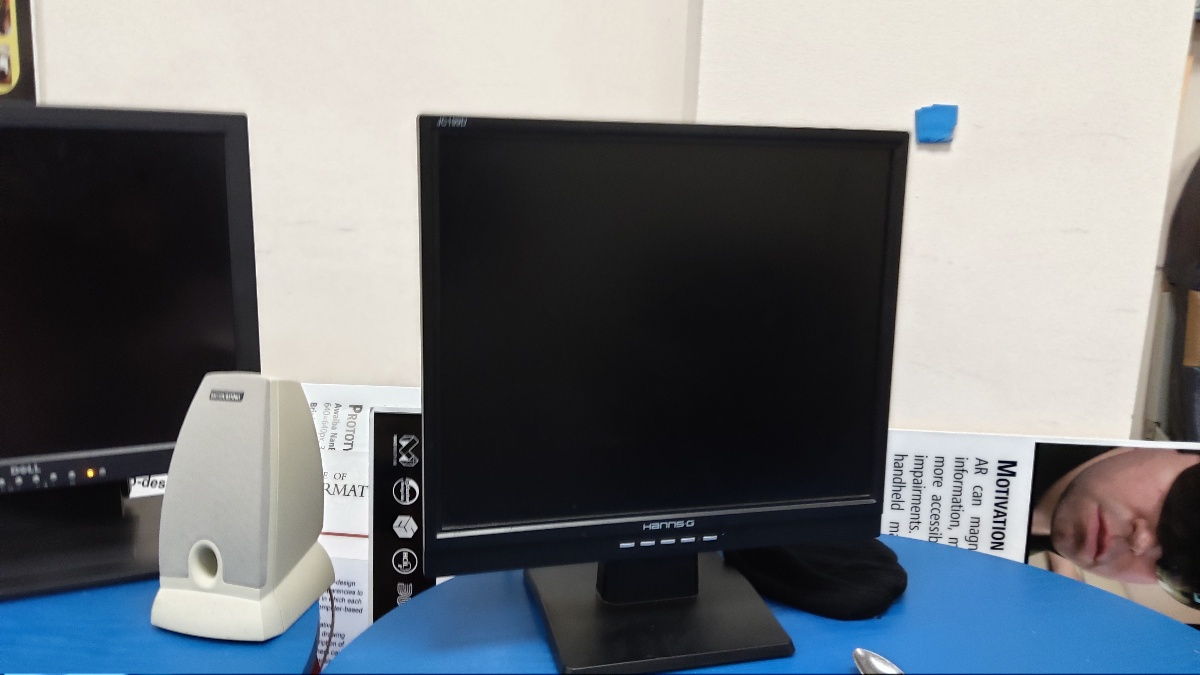monitor: (404, 113, 918, 585)
